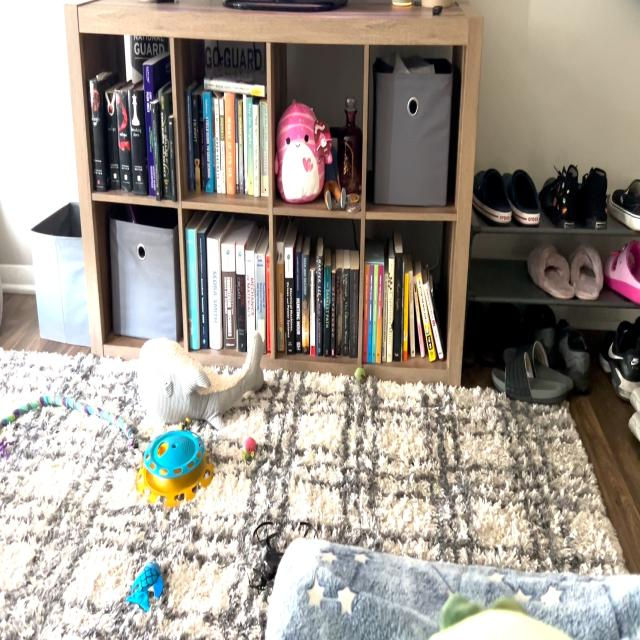drone: (241, 510, 322, 612)
